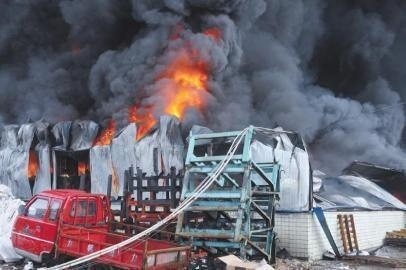fire: (165, 57, 208, 120), (132, 108, 156, 138), (95, 120, 117, 146), (77, 160, 88, 174)
